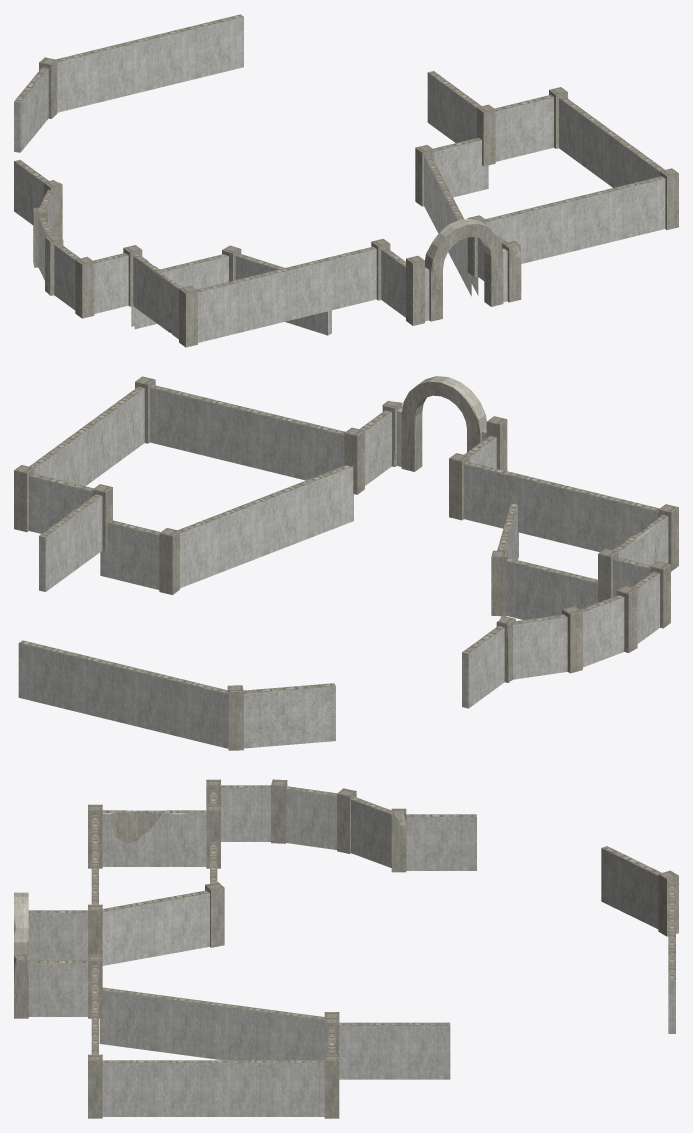
Rendered from poi_corl_farm_64x64_s01_l0.fbx.
3 renders of one model, top to bottom at view 1: azimuth 30°, elevation 25°; view 2: azimuth 150°, elevation 25°; view 3: azimuth 270°, elevation 25°, orthographic. The views are drawn at different scales.
Visible parts, largest first — view 1: mesh_node; view 2: mesh_node; view 3: mesh_node.
Boxes of the visible parts, x1,y1,x2,y2 form: mesh_node: (14,14,678,347); mesh_node: (14,376,678,750); mesh_node: (14,779,678,1118).
Bounding box in the file's own units: 45.06 × 9 × 44.96.
